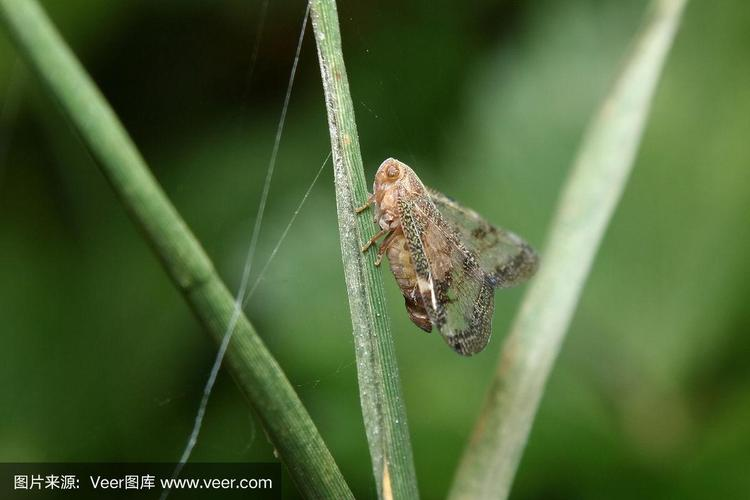Delphacidae: (354, 157, 541, 358)
